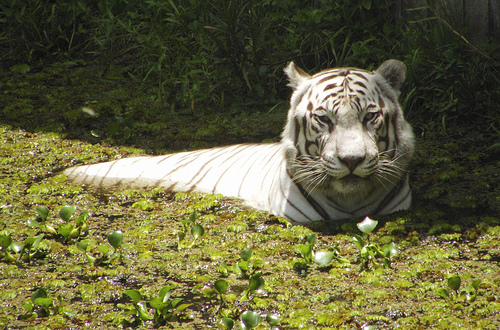Tigre: (75, 76, 420, 218)
